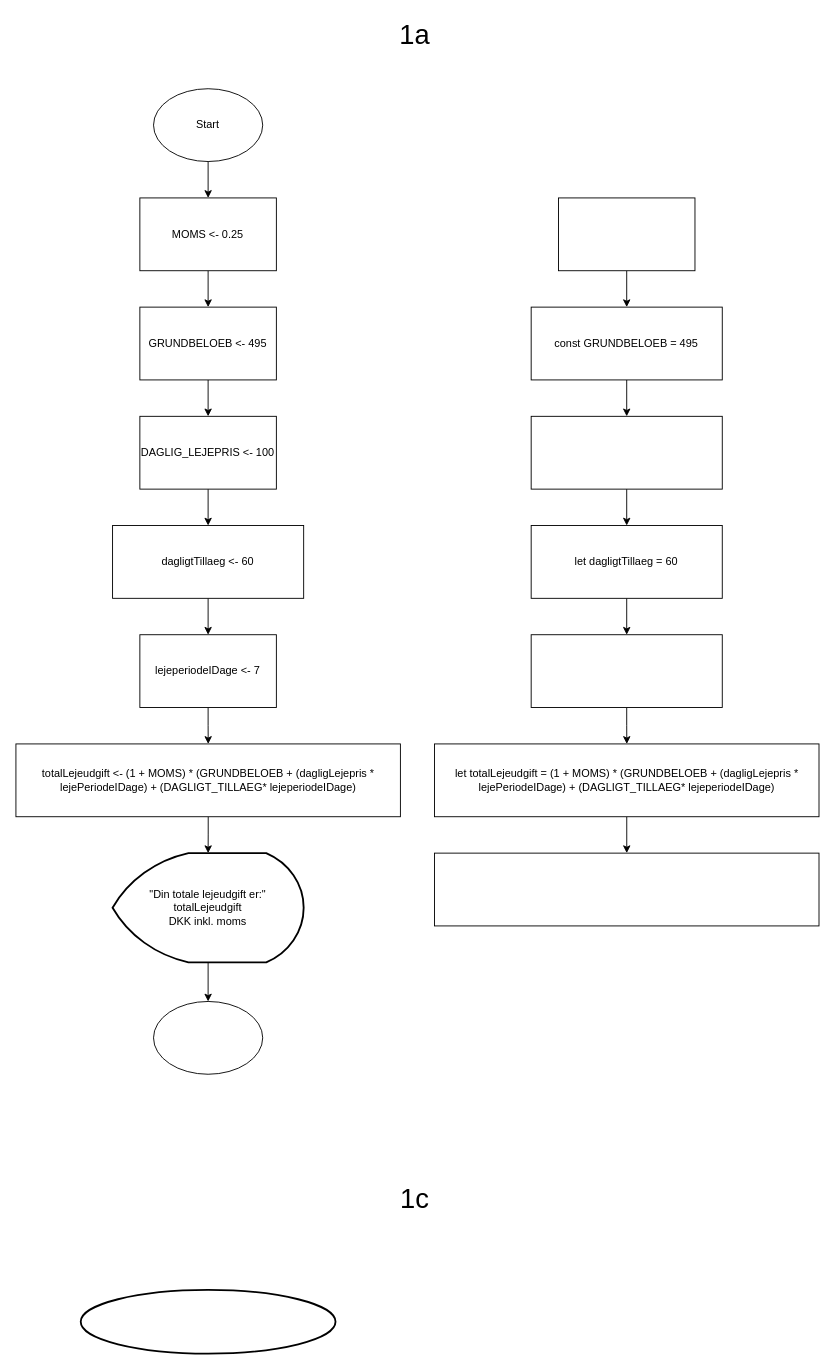
Some shapes in this 835 by 1370 pixel diagram are drawn without their labels. The shapes that lost their labels are listed below. From the top down, each one's box as (x1, y1, x2, y2) in pixels, then its label:
(558, 197, 695, 271): const MOMS = 0.25;
(530, 415, 722, 489): const DAGLIG_LEJEPRIS = 100
(530, 634, 722, 708): let lejeperiodeIDage = 7
(434, 852, 819, 926): console.log("Din totale lejeudgift er: " + totalLejeudgift + " DKK inkl. moms");
(153, 1001, 263, 1074): Stop
(79, 1289, 336, 1354): beregnTotallejeudgift ()
